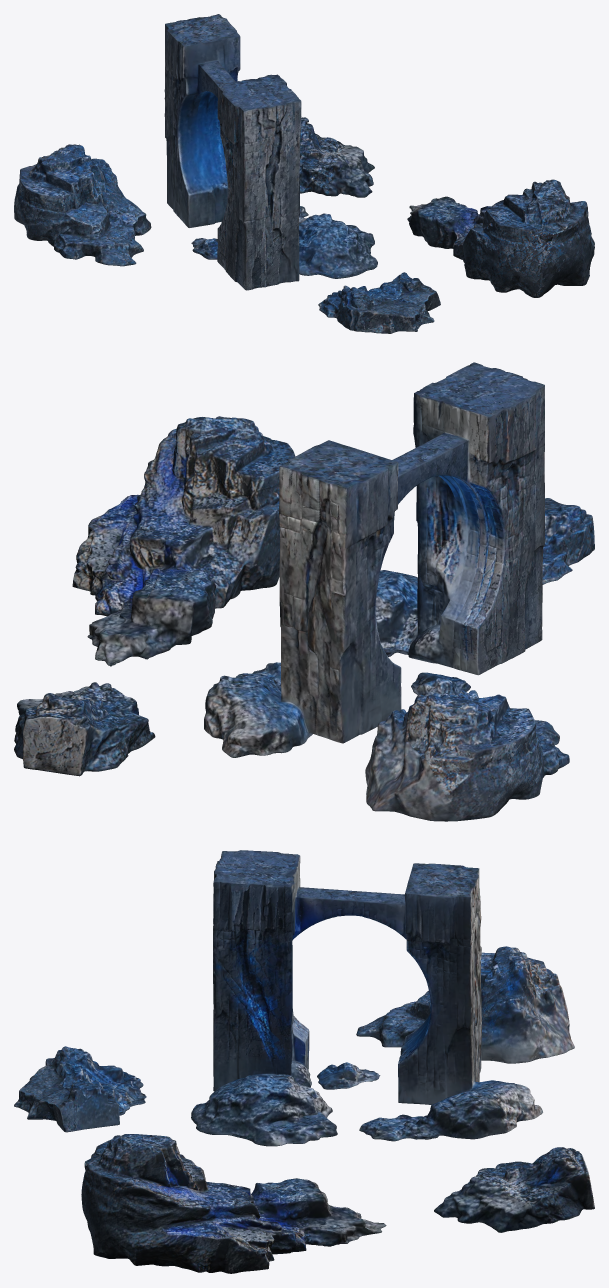
The model's file is mcanzee-env-low.glb.
The picture shows the model from 3 angles, top to bottom: view 1: azimuth 30°, elevation 25°; view 2: azimuth 150°, elevation 25°; view 3: azimuth 270°, elevation 25°; orthographic projection. The views are drawn at different scales.
Visible parts, largest first — view 1: tripo_node_a993ce54-3bb5-4077-bf19-d4c9f26e7f1f; view 2: tripo_node_a993ce54-3bb5-4077-bf19-d4c9f26e7f1f; view 3: tripo_node_a993ce54-3bb5-4077-bf19-d4c9f26e7f1f.
Boxes of the visible parts, x1,y1,x2,y2 form: tripo_node_a993ce54-3bb5-4077-bf19-d4c9f26e7f1f: (14, 14, 594, 333); tripo_node_a993ce54-3bb5-4077-bf19-d4c9f26e7f1f: (14, 362, 594, 821); tripo_node_a993ce54-3bb5-4077-bf19-d4c9f26e7f1f: (14, 850, 594, 1273).
Size of the model in its own units: 0.978 by 0.4495 by 0.9796.
1 material, 1 textured.
